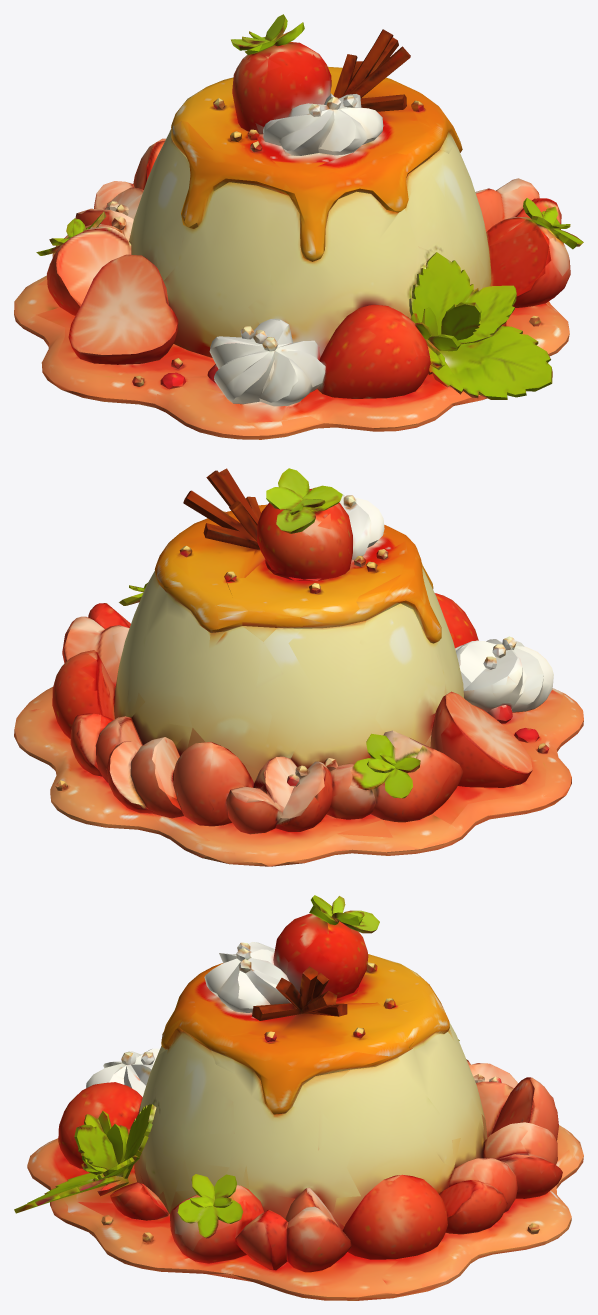
Rendered from Web_Pudding_Strawberry.fbx.
3 views of the same model, one above another, from view 1: azimuth 30°, elevation 25°; view 2: azimuth 150°, elevation 25°; view 3: azimuth 270°, elevation 25° (orthographic). The views are drawn at different scales.
Visible parts, largest first — view 1: node_0; view 2: node_0; view 3: node_0.
Part boxes in pixels (bbox=[...]): node_0: bbox=[14, 14, 583, 439]; node_0: bbox=[14, 468, 583, 866]; node_0: bbox=[14, 895, 583, 1300].
Bounding box in the file's own units: 103 × 56.39 × 103.
Materials: 1 (1 with a texture image).
